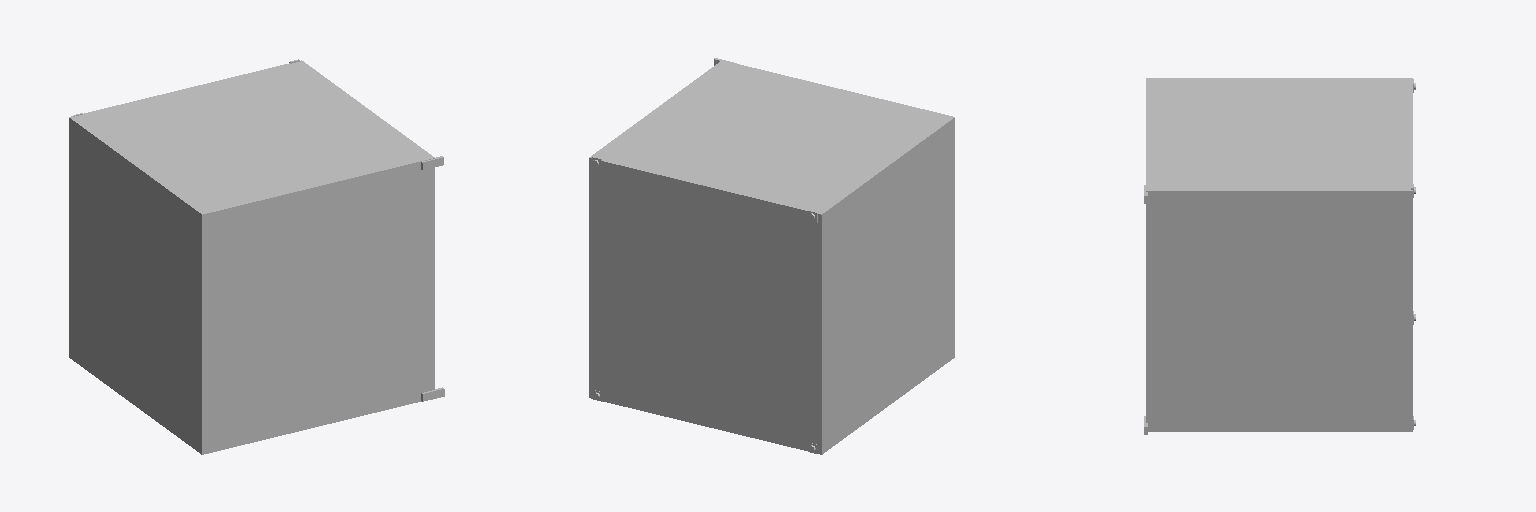
File: fridge.obj
3 renders of one model, left to right at view 1: azimuth 30°, elevation 25°; view 2: azimuth 150°, elevation 25°; view 3: azimuth 270°, elevation 25°, orthographic.
Parts seen in each view (by area): view 1: Cylinder.000; view 2: Cylinder.000; view 3: Cylinder.000.
Boxes of the visible parts, x1=… form: Cylinder.000: x1=69, y1=60, x2=434, y2=454; Cylinder.000: x1=589, y1=60, x2=954, y2=454; Cylinder.000: x1=1146, y1=78, x2=1412, y2=431.
Size of the model in its own units: 1.04 by 0.9975 by 1.02.